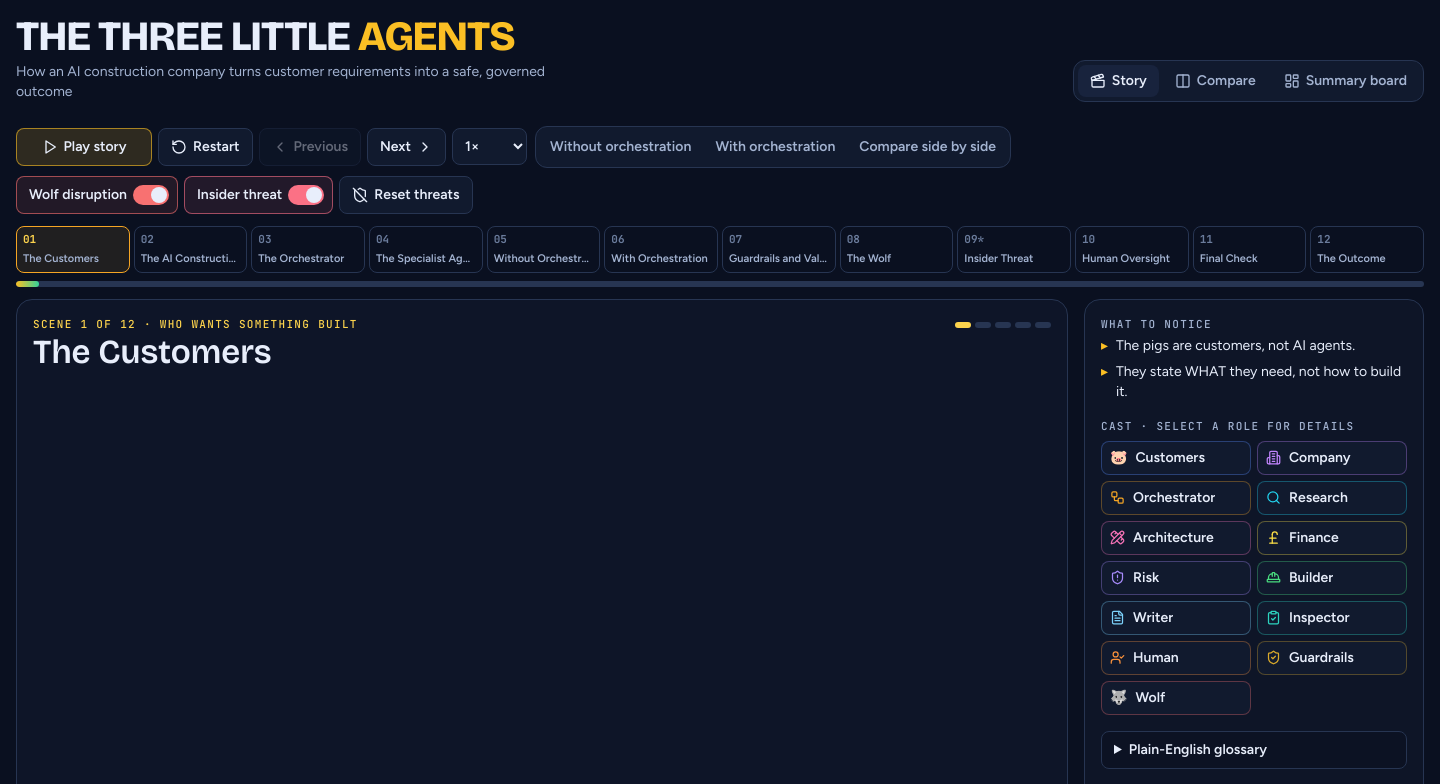
Test: App controls › selecting a role shows every required field
Click the button with aria-label "Research Agent": click(1332, 498) [1257, 481, 1407, 515]
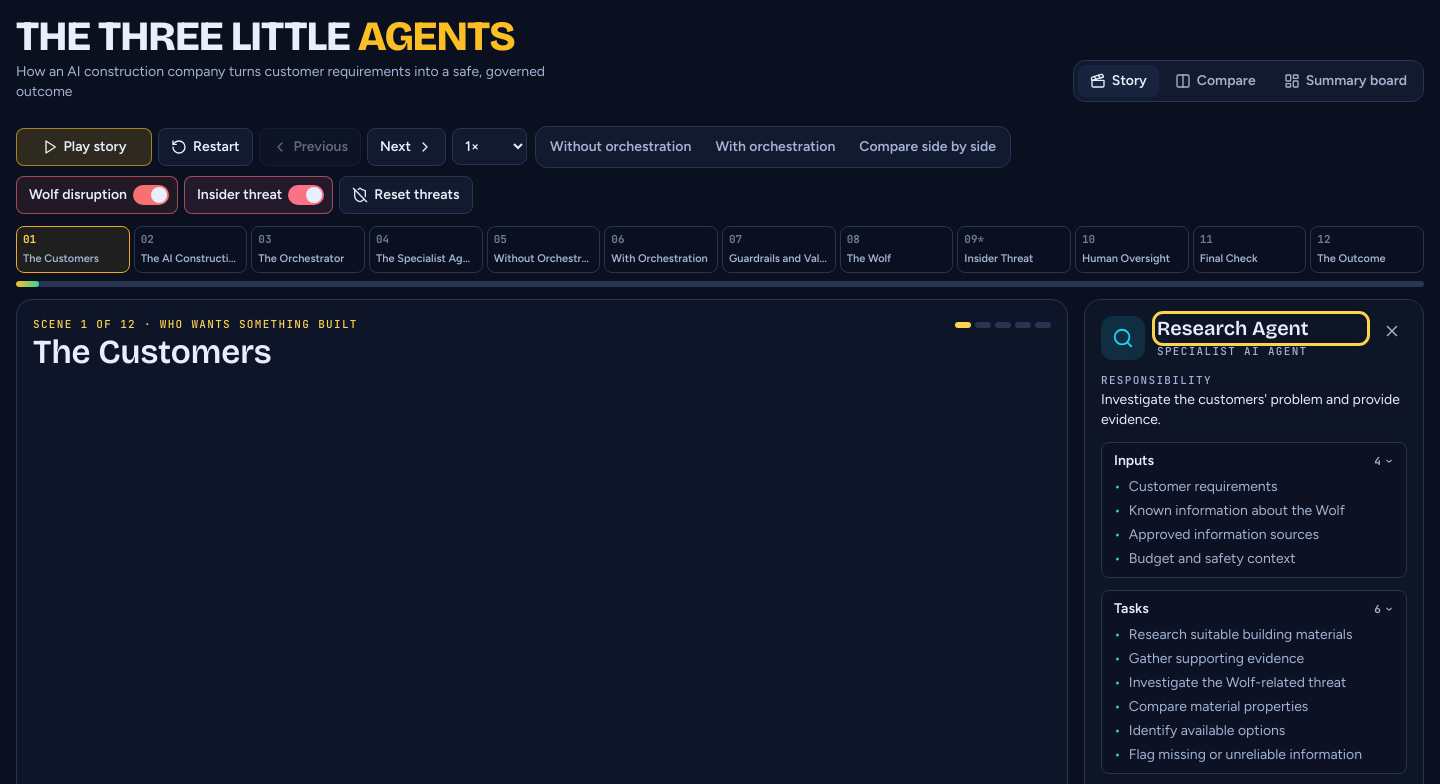
Expected: the text "Responsibility" is shown, [1101, 373, 1212, 387]
Expected: the text "Inputs" is shown, [1114, 452, 1154, 469]
Expected: the text "Tasks" is shown, [1114, 600, 1149, 617]
Click the button named "Close role details": click(1392, 331) [1377, 316, 1407, 346]
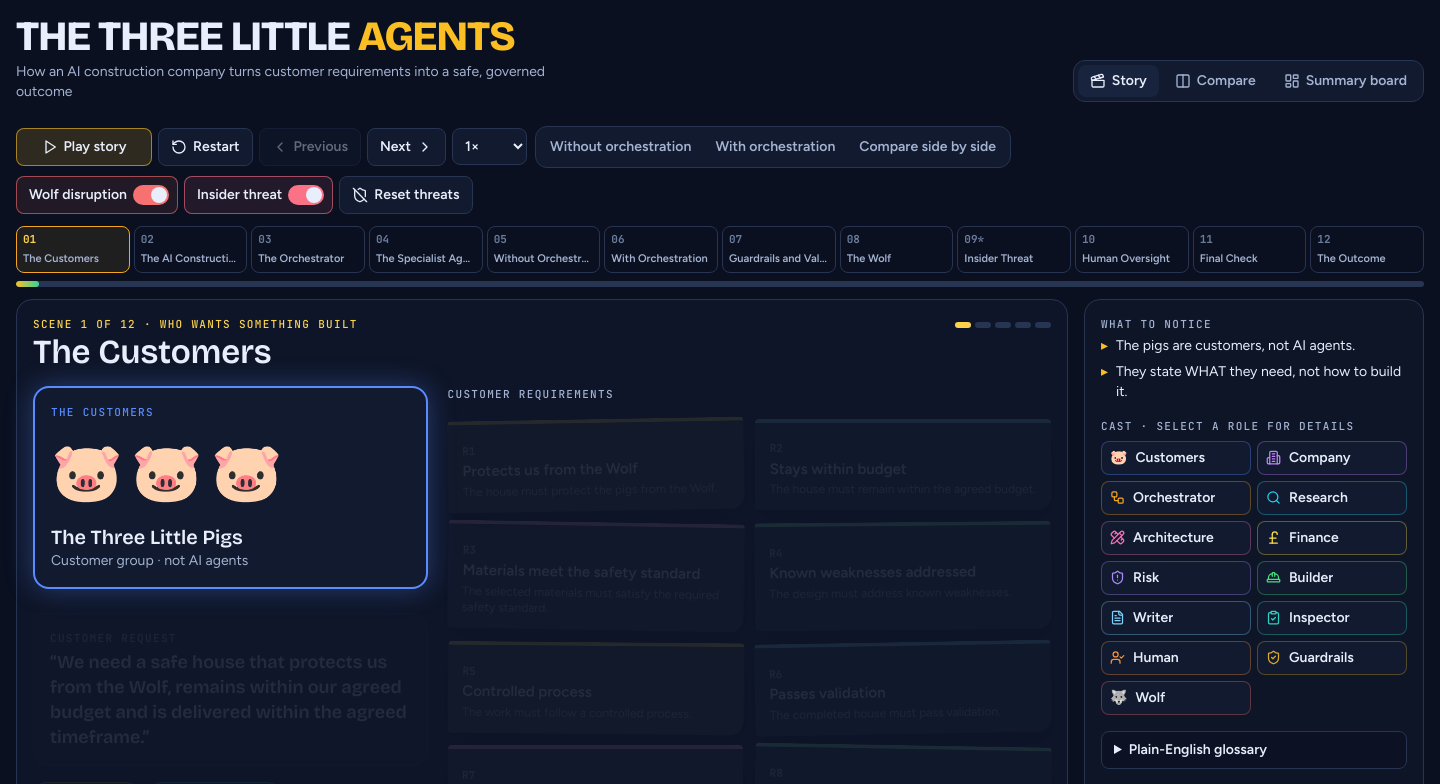
Expected: the heading "Research Agent" is gone
